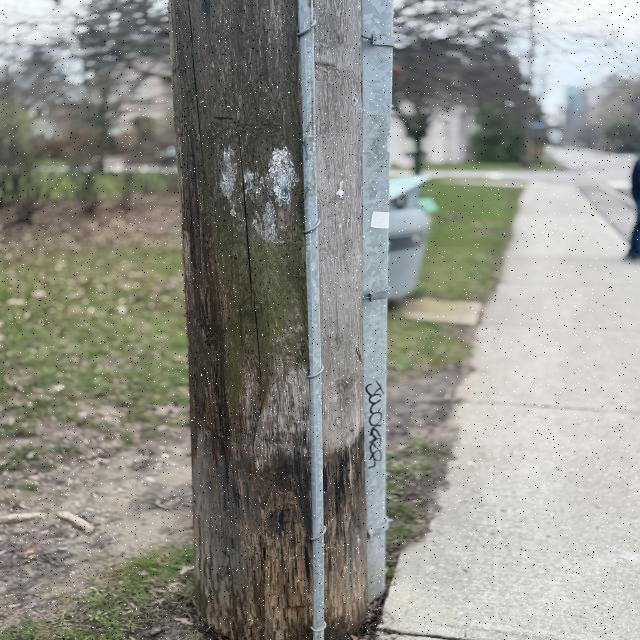Electrical Pole: (163, 1, 402, 640)
